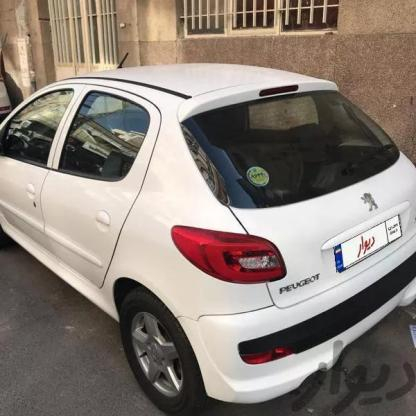Car: (0, 59, 416, 416)
